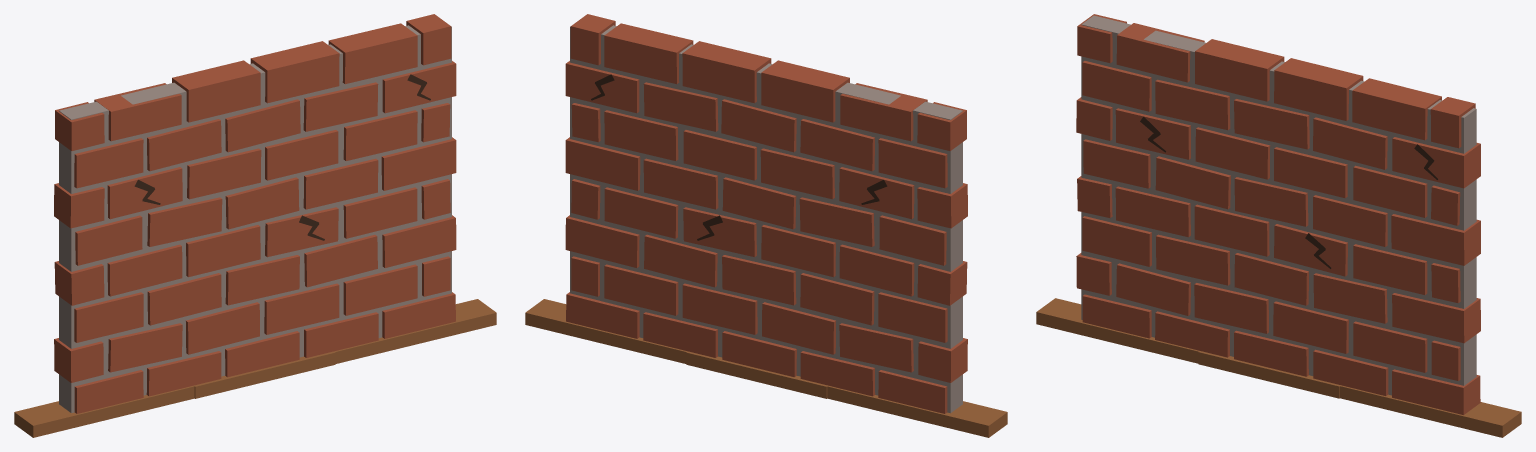
File: wall_brick_tiles_crack1.glb
3 renders of one model, left to right at view 1: azimuth 30°, elevation 25°; view 2: azimuth 150°, elevation 25°; view 3: azimuth 330°, elevation 25°, orthographic.
Parts seen in each view (by area): view 1: T1, T5, T3, T7, A2Hi, T2, A2Lo, B8Hi, B0Hi, T0, TrimD, A6Hi (+11 smaller); view 2: T1, T5, T3, T7, A2Hi, A2Lo, B0Hi, B8Hi, B0Lo, TrimD, A6Hi, A4Lo (+11 smaller); view 3: T1, T3, T5, T7, B0Hi, B0Lo, A2Hi, A6Hi, A2Lo, TrimD, A4Hi, B8Hi (+10 smaller).
Boxes of the visible parts, bbox=[...] form: T1: bbox=[183, 44, 328, 187]; T5: bbox=[54, 188, 199, 318]; T3: bbox=[326, 124, 456, 257]; T7: bbox=[197, 258, 328, 383]; A2Hi: bbox=[60, 75, 199, 187]; T2: bbox=[55, 83, 199, 208]; A2Lo: bbox=[54, 109, 198, 219]; B8Hi: bbox=[54, 289, 198, 413]; B0Hi: bbox=[312, 14, 451, 155]; T0: bbox=[326, 21, 456, 156]; TrimD: bbox=[14, 299, 496, 437]; A6Hi: bbox=[328, 226, 456, 322]; T1: bbox=[693, 44, 838, 187]; T5: bbox=[822, 188, 967, 318]; T3: bbox=[565, 124, 695, 257]; T7: bbox=[693, 258, 824, 383]; A2Hi: bbox=[822, 75, 960, 187]; A2Lo: bbox=[823, 109, 967, 219]; B0Hi: bbox=[570, 14, 709, 155]; B8Hi: bbox=[823, 289, 967, 413]; B0Lo: bbox=[565, 26, 693, 156]; TrimD: bbox=[525, 299, 1007, 437]; A6Hi: bbox=[565, 226, 693, 322]; A4Lo: bbox=[694, 188, 824, 288]; T1: bbox=[1206, 41, 1351, 186]; T3: bbox=[1335, 187, 1480, 319]; T5: bbox=[1076, 123, 1207, 256]; T7: bbox=[1206, 257, 1337, 383]; B0Hi: bbox=[1335, 73, 1475, 186]; B0Lo: bbox=[1336, 108, 1480, 216]; A2Hi: bbox=[1083, 16, 1222, 154]; A6Hi: bbox=[1335, 288, 1480, 414]; A2Lo: bbox=[1076, 14, 1205, 154]; TrimD: bbox=[1036, 298, 1521, 437]; A4Hi: bbox=[1206, 155, 1337, 287]; B8Hi: bbox=[1076, 224, 1204, 321].
Size of the model in its own units: 4.8 by 3.06 by 0.36.
